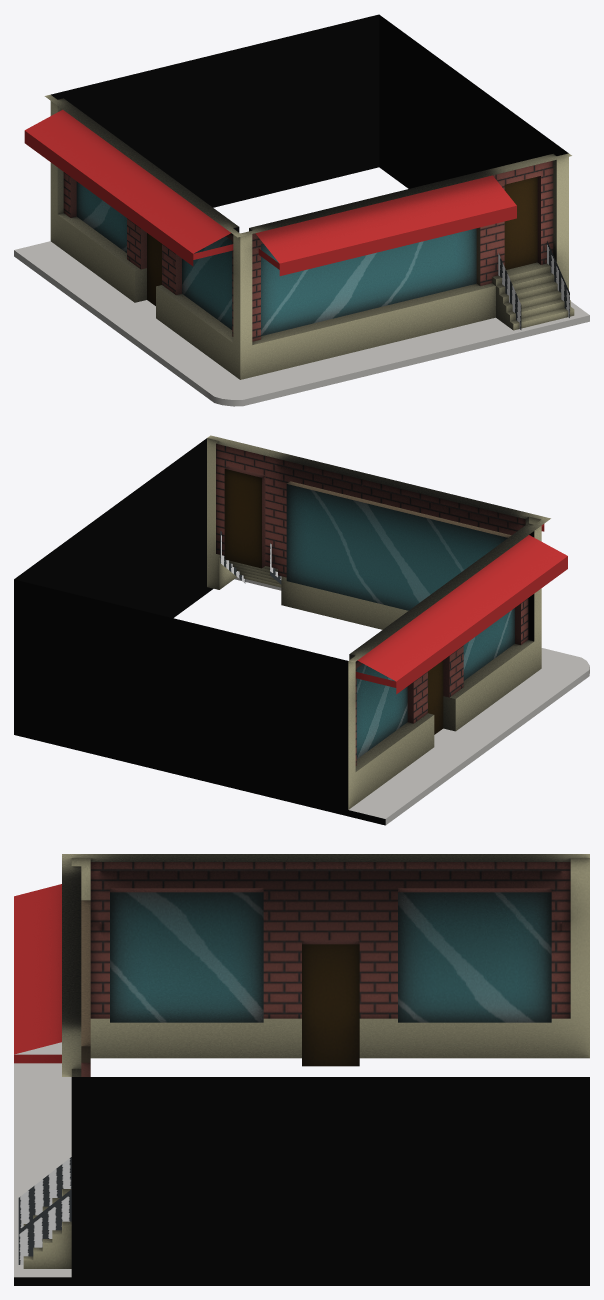
File: building corner store.fbx
3 renders of one model, top to bottom at view 1: azimuth 30°, elevation 25°; view 2: azimuth 150°, elevation 25°; view 3: azimuth 270°, elevation 25°, orthographic. The views are drawn at different scales.
Visible parts, largest first — view 1: Building Corner Store 1; view 2: Building Corner Store 1; view 3: Building Corner Store 1.
Boxes of the visible parts, <box> form: Building Corner Store 1: <box>14,14,589,406</box>; Building Corner Store 1: <box>14,435,589,825</box>; Building Corner Store 1: <box>14,854,589,1285</box>.
Bounding box in the file's own units: 600 × 240 × 600.
